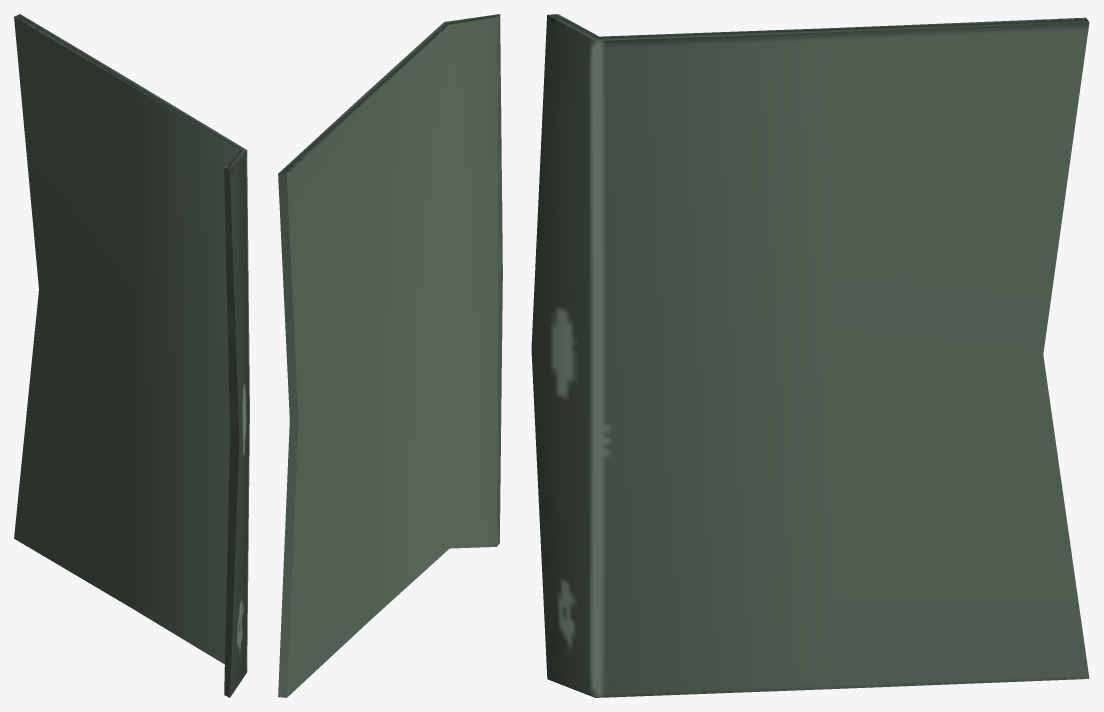
The model's file is CarTrunk_Hand.fbx.
3 views of the same model, side by side, from view 1: azimuth 30°, elevation 25°; view 2: azimuth 150°, elevation 25°; view 3: azimuth 270°, elevation 25° (orthographic). The views are drawn at different scales.
Visible parts, largest first — view 1: CarTrunkLid; view 2: CarTrunkLid; view 3: CarTrunkLid.
Part boxes in pixels (x1=…): CarTrunkLid: x1=14, y1=14, x2=249, y2=697; CarTrunkLid: x1=278, y1=14, x2=502, y2=697; CarTrunkLid: x1=531, y1=14, x2=1089, y2=697.
Size of the model in its own units: 0.0568 by 0.6936 by 0.5281.
